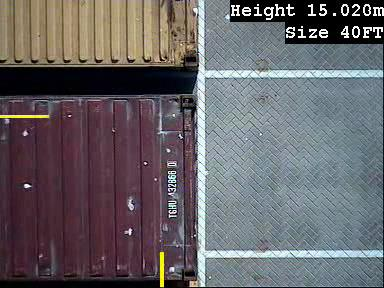groundmarker_2: (191, 32, 223, 101)
